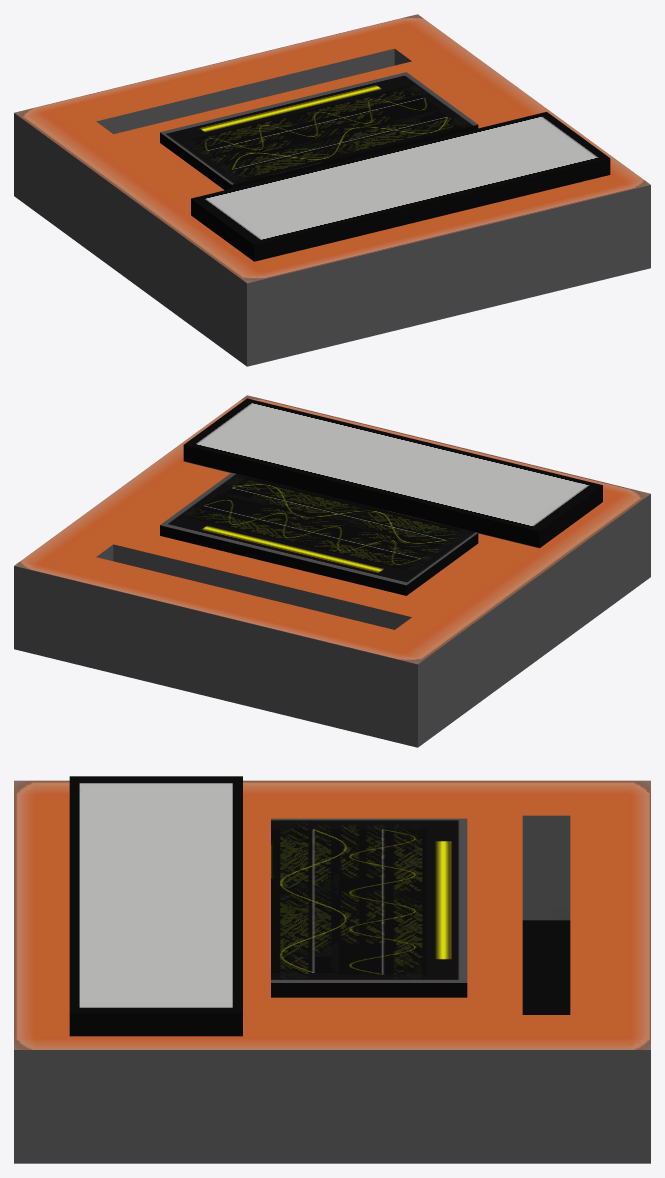
File: Roomba_Keypad.fbx
The picture shows the model from 3 angles, top to bottom: view 1: azimuth 30°, elevation 25°; view 2: azimuth 150°, elevation 25°; view 3: azimuth 270°, elevation 25°; orthographic projection. The views are drawn at different scales.
Visible parts, largest first — view 1: pCube37; view 2: pCube37; view 3: pCube37.
Part boxes in pixels (x1,y1,x2,y2): pCube37: (14,14,650,366); pCube37: (14,395,650,747); pCube37: (14,776,650,1163).
Bounding box in the file's own units: 29.05 × 6.88 × 29.05.
